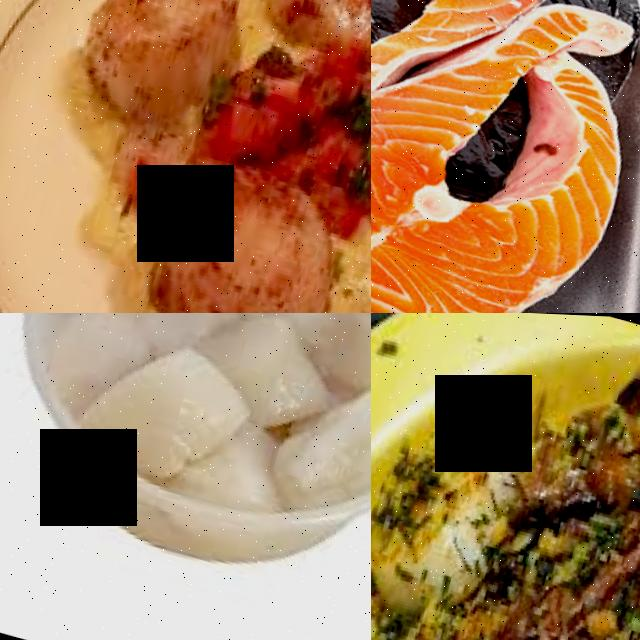salmon: (371, 102, 611, 313)
sea scallops: (90, 327, 254, 486), (73, 0, 248, 124), (273, 372, 371, 524), (212, 313, 341, 419), (308, 313, 371, 397)
